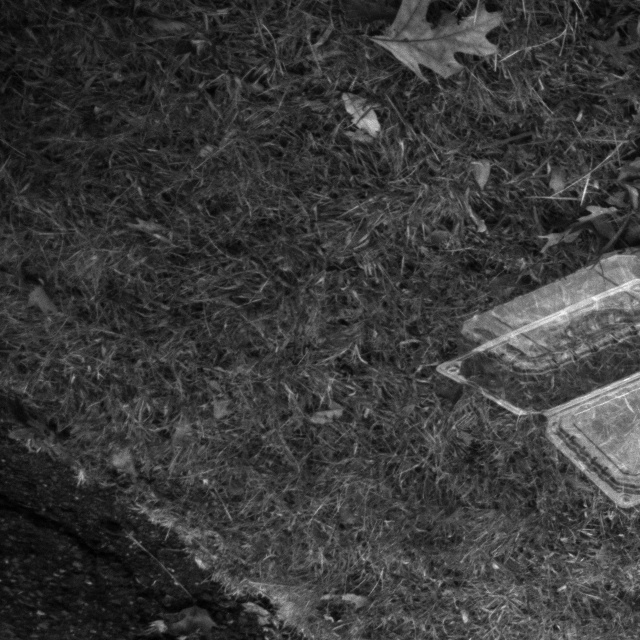container: (432, 243, 640, 514)
